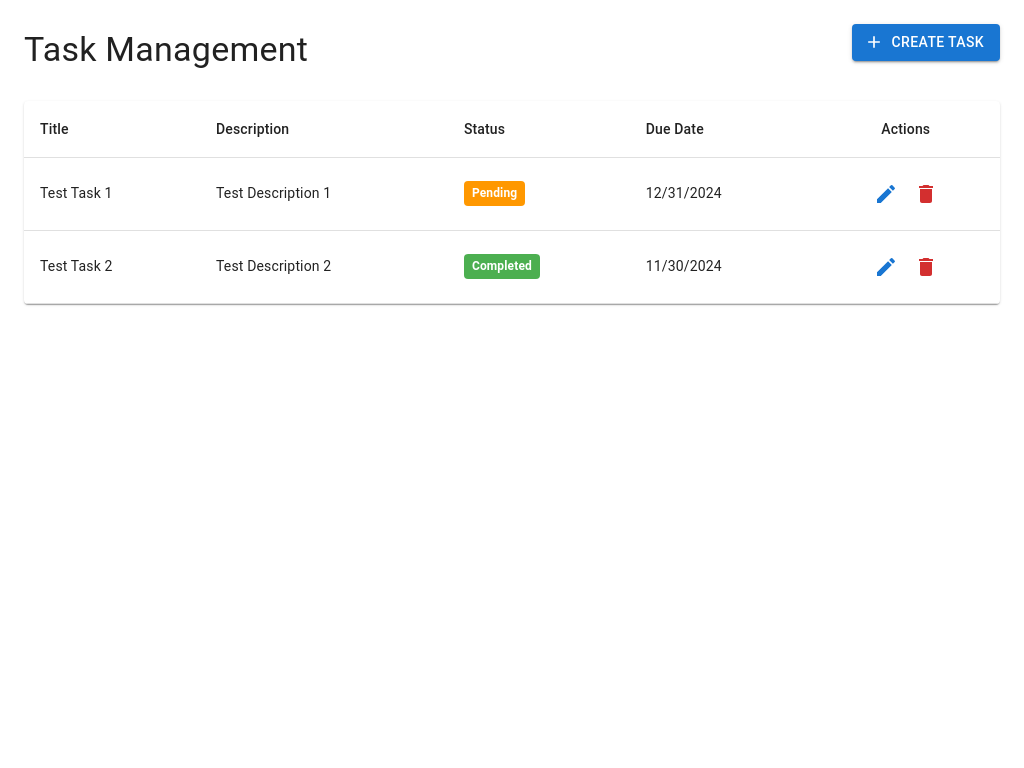
Scenario: TaskTable Component › opens edit task modal
Click the button named "edit" in the row of "Test Task 1" at (886, 194), box [866, 174, 906, 214]
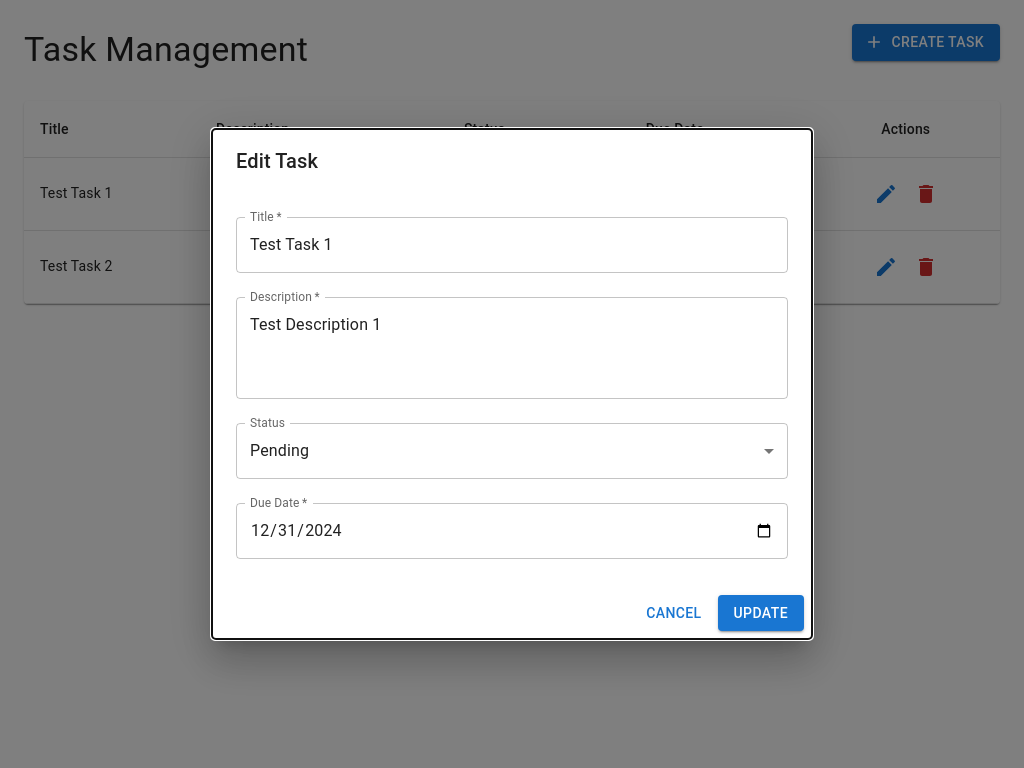
Result: the heading "Edit Task" is shown at [236, 149, 318, 173]
Result: the field showing "Test Task 1" is shown at [236, 217, 788, 273]
